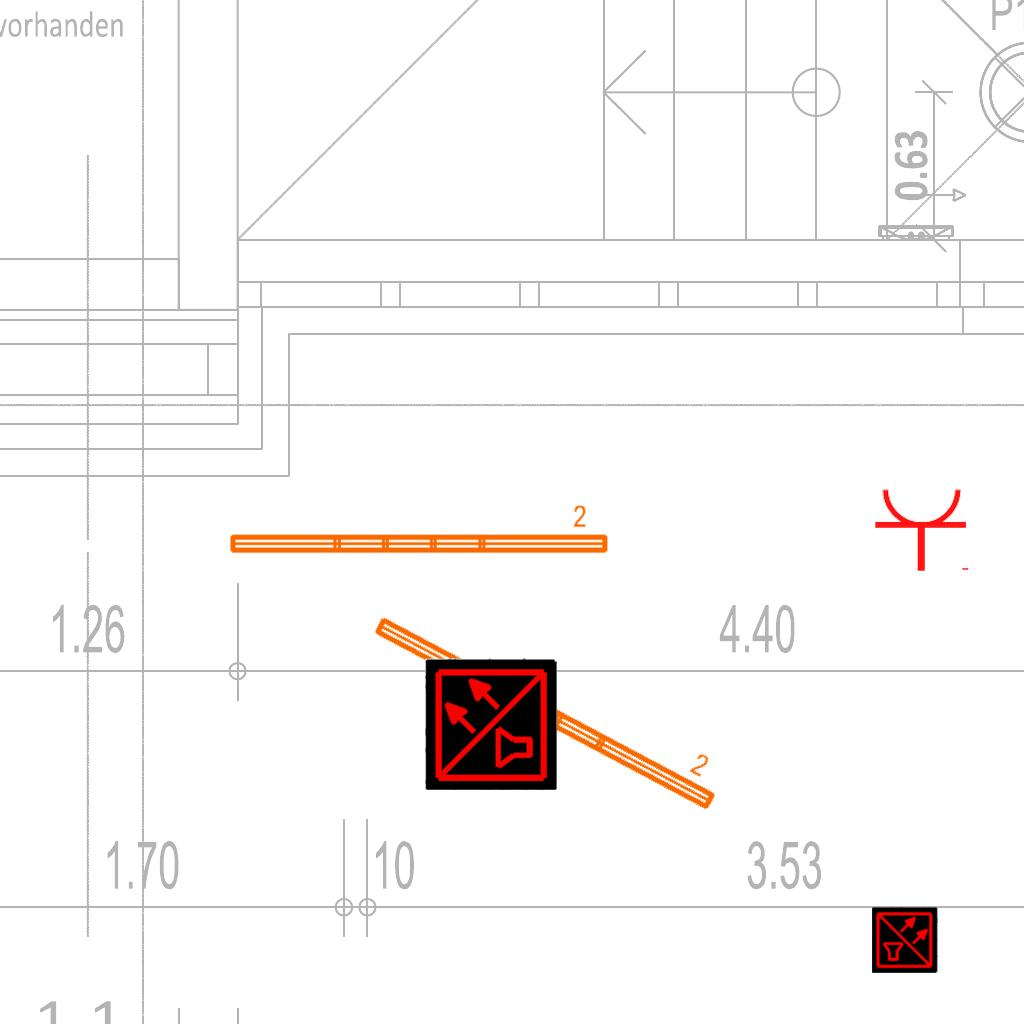Ambulanz_Pendelleuchte_LED: (366, 586, 735, 818), (225, 503, 612, 559)
OKW_Multisensormelder_(Kombination_optischer_Rauch-Kahlenmonoxid_Waerme-Melder): (425, 658, 557, 790), (872, 907, 938, 973)
Schukosteckdose_einfach: (873, 486, 973, 573)
